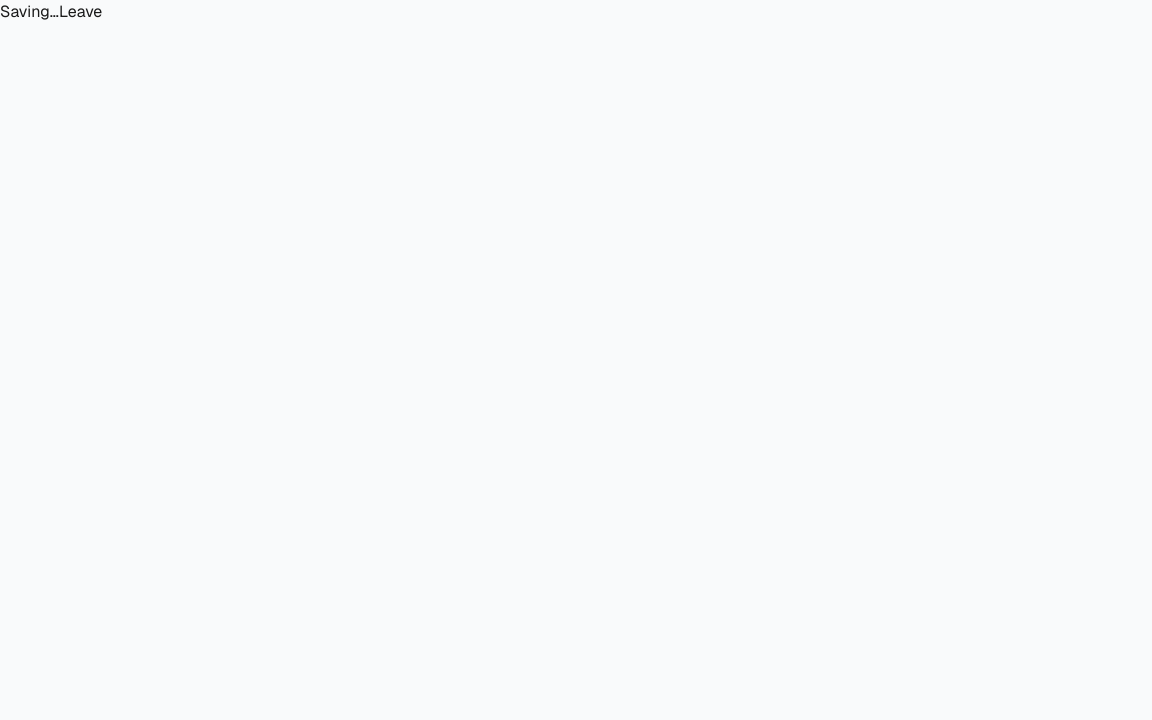
Test case: shared unsaved changes guard › F10: blocked leave while saving does not flush
The image size is (1152, 720).
Click the link "Leave". click: (81, 12)
box: [59, 1, 102, 22]
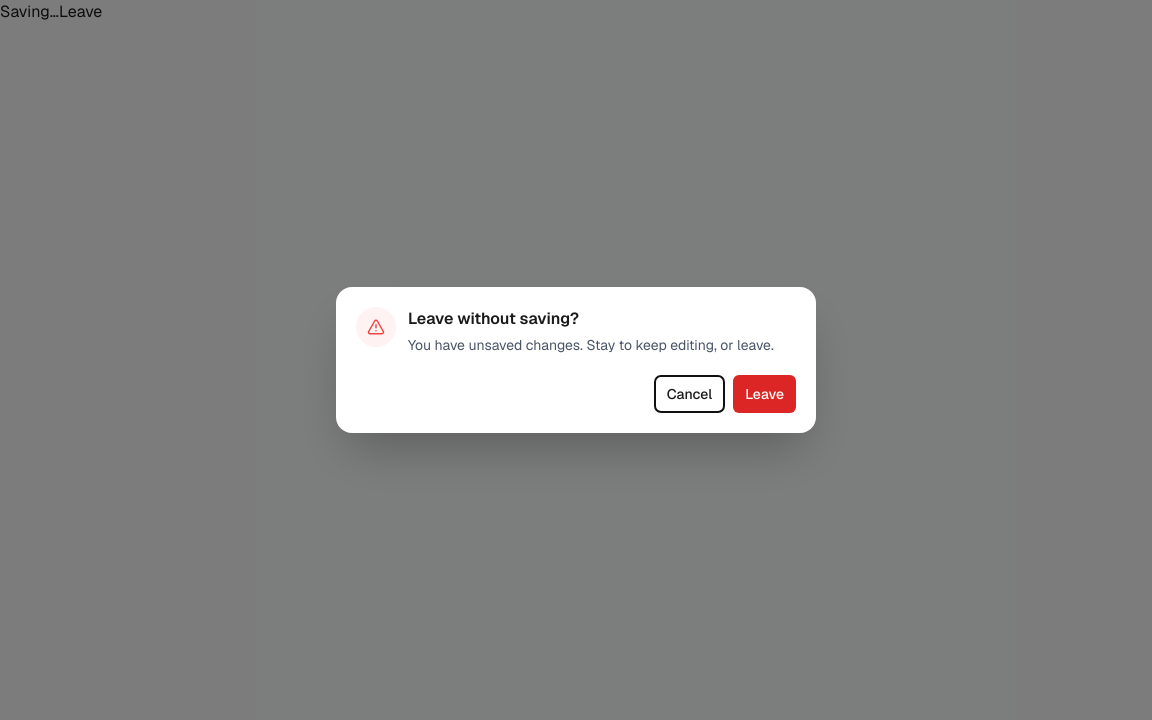
Check: the text "Leave without saving?" is shown, box [408, 308, 579, 329]
